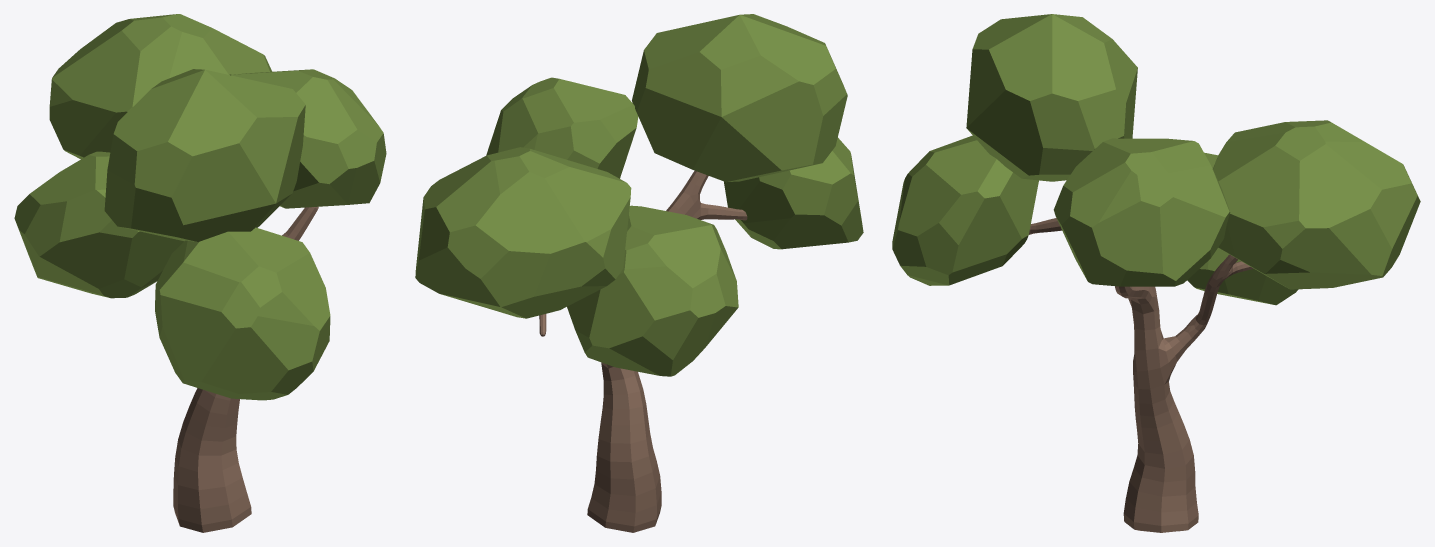
File: Tree_02.fbx
3 renders of one model, left to right at view 1: azimuth 30°, elevation 25°; view 2: azimuth 150°, elevation 25°; view 3: azimuth 270°, elevation 25°, orthographic. The views are drawn at different scales.
Parts seen in each view (by area): view 1: Leaf_02.002, Leaf_02.003, Leaf_02, Leaf_02.001, Leaf_02.004, Wood_02; view 2: Leaf_02, Leaf_02.002, Leaf_02.001, Wood_02, Leaf_02.004, Leaf_02.003; view 3: Leaf_02, Leaf_02.002, Leaf_02.004, Leaf_02.003, Wood_02, Leaf_02.001.
Boxes of the visible parts, bbox=[...] form: Leaf_02.002: bbox=[104, 69, 305, 242]; Leaf_02.003: bbox=[155, 227, 330, 400]; Leaf_02: bbox=[49, 14, 271, 159]; Leaf_02.001: bbox=[14, 151, 183, 298]; Leaf_02.004: bbox=[230, 69, 386, 208]; Wood_02: bbox=[173, 206, 318, 532]; Leaf_02: bbox=[415, 147, 631, 318]; Leaf_02.002: bbox=[632, 14, 847, 182]; Leaf_02.001: bbox=[567, 205, 738, 376]; Wood_02: bbox=[539, 171, 747, 532]; Leaf_02.004: bbox=[486, 77, 638, 178]; Leaf_02.003: bbox=[724, 137, 863, 249]; Leaf_02: bbox=[1213, 120, 1420, 289]; Leaf_02.002: bbox=[966, 14, 1137, 181]; Leaf_02.004: bbox=[1053, 138, 1230, 286]; Leaf_02.003: bbox=[892, 135, 1038, 285]; Wood_02: bbox=[1029, 218, 1253, 532]; Leaf_02.001: bbox=[1187, 152, 1298, 305].
Size of the model in its own units: 217 by 345 by 341.
